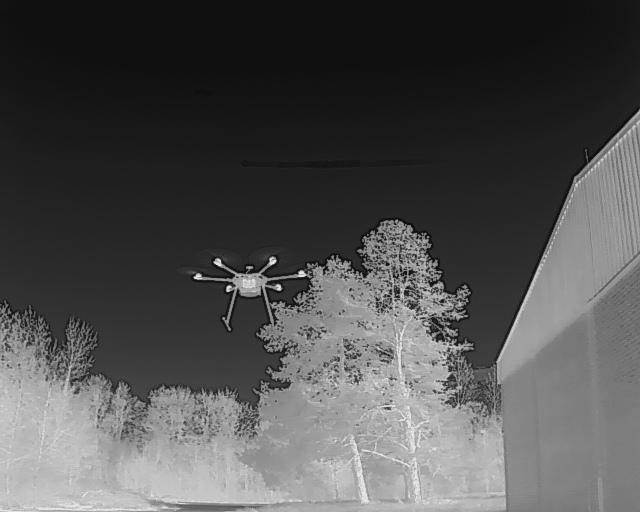drone: (172, 235, 327, 343)
